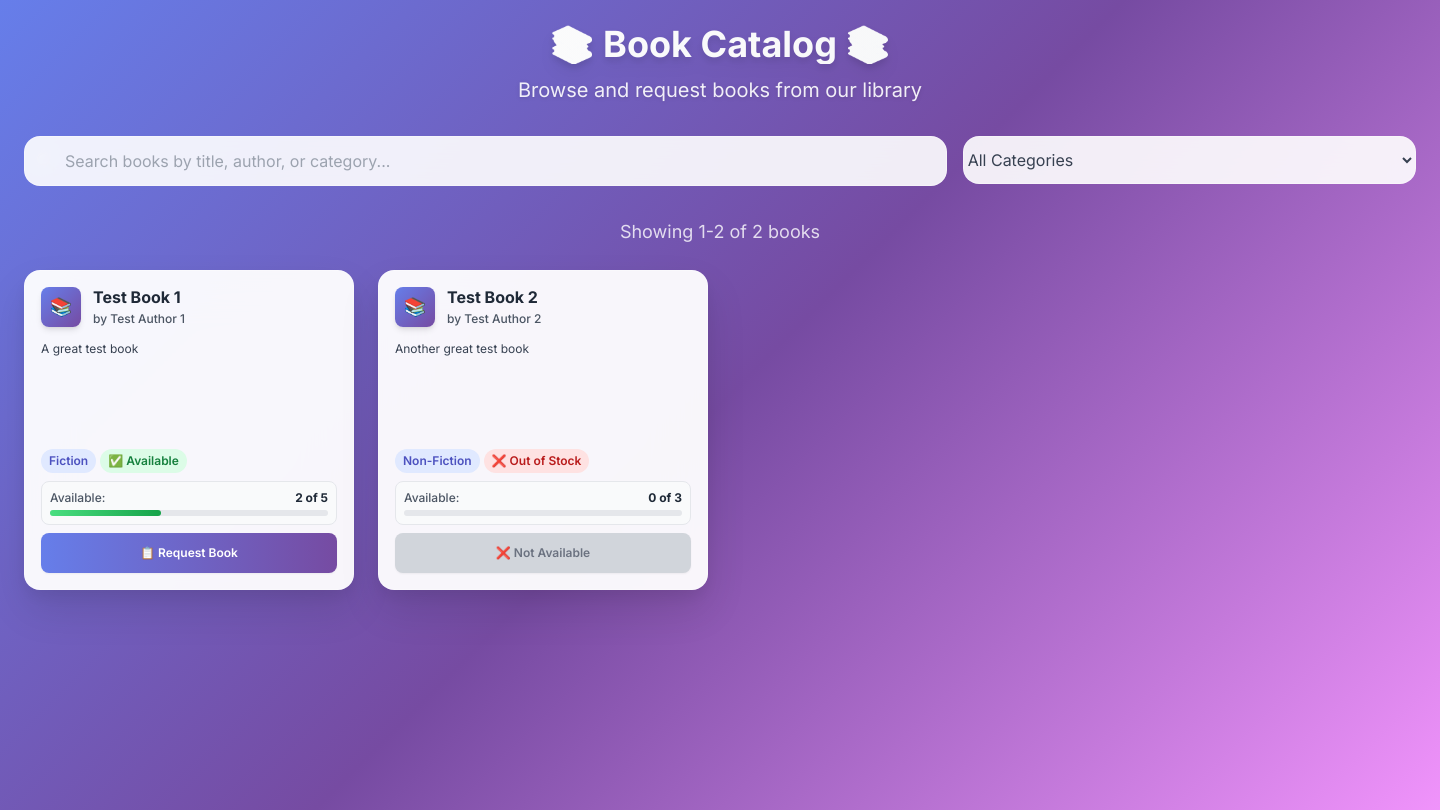
Test: BookCatalog Component › filters books by category
Select "Fiction" in the dropdown showing "All Categories" at x=1189, y=160, box [963,136,1416,184]
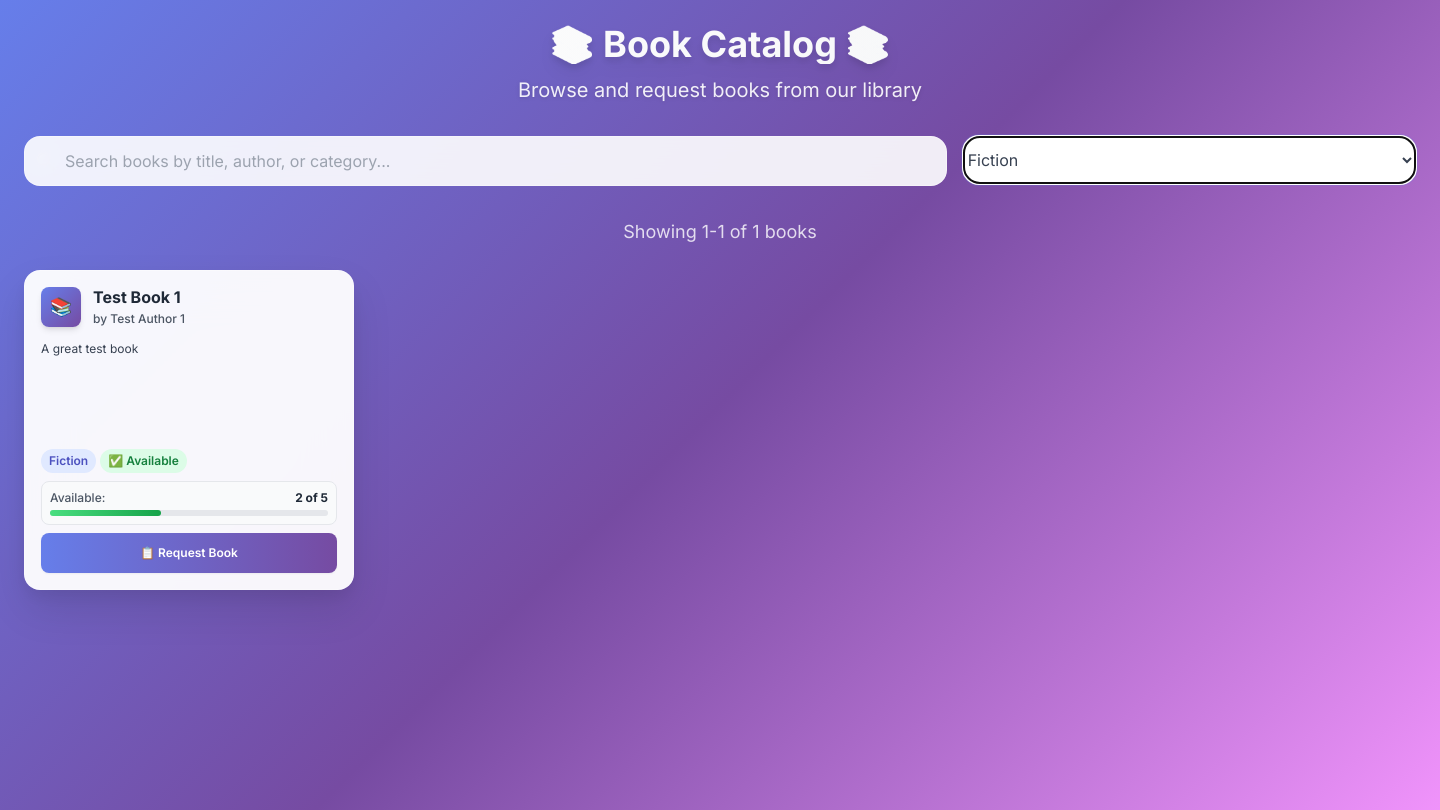
Expected: the heading "Test Book 1" is shown, [93,287,181,307]
Now the heading "Test Book 2" is gone
